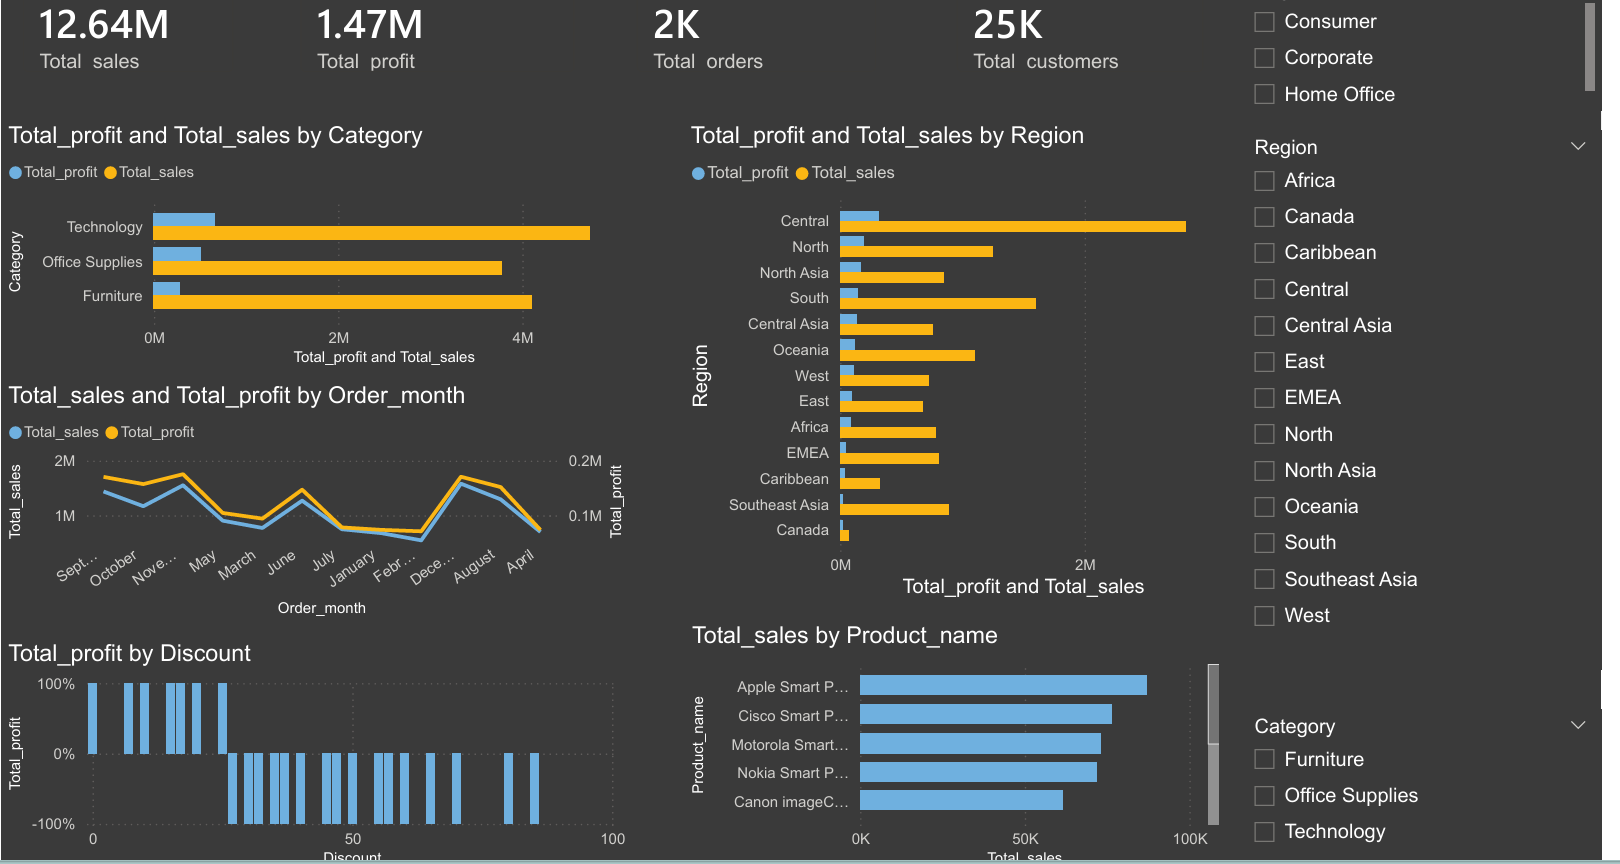

This screenshot's page, from the dashboard's own definition file:
{"tool":"powerbi","page":{"name":"Page 1","canvas":[1280,720],"ordinal":0},"visuals":[{"type":"cardVisual","fields":{"Data":["retail_analytics fact_sales.Total_sales"]},"box":[0,0,202,97],"z":0},{"type":"cardVisual","fields":{"Data":["retail_analytics fact_sales.Total_profit"]},"box":[222,0,253,97],"z":1000},{"type":"cardVisual","fields":{"Data":["retail_analytics fact_sales.Total_orders"]},"box":[491,0,225,97],"z":2000},{"type":"cardVisual","fields":{"Data":["retail_analytics fact_sales.Total_customers"]},"box":[747,0,231,97],"z":3000},{"type":"clusteredBarChart","fields":{"Y":["retail_analytics fact_sales.Total_profit","retail_analytics fact_sales.Total_sales"],"Category":["retail_analytics fact_sales.Category"]},"box":[0,120,504,199],"z":4000},{"type":"clusteredBarChart","fields":{"Category":["retail_analytics fact_sales.Region"],"Y":["retail_analytics fact_sales.Total_profit","retail_analytics fact_sales.Total_sales"]},"box":[546,120,432,385],"z":5000},{"type":"lineChart","fields":{"Category":["retail_analytics fact_sales.Order_month"],"Y":["retail_analytics fact_sales.Total_sales"],"Y2":["retail_analytics fact_sales.Total_profit"]},"box":[0,328,504,192],"z":6000},{"type":"hundredPercentStackedColumnChart","fields":{"Category":["retail_analytics fact_sales.Discount"],"Y":["retail_analytics fact_sales.Total_profit"]},"box":[0,534,504,186],"z":7000},{"type":"barChart","fields":{"Y":["retail_analytics fact_sales.Total_sales"],"Category":["retail_analytics fact_sales.Product_name"]},"box":[547,520,431,200],"z":8000},{"type":"slicer","fields":{"Values":["retail_analytics fact_sales.Segment"]},"box":[989,0,291,112],"z":9000},{"type":"slicer","fields":{"Values":["retail_analytics fact_sales.Category"]},"box":[989,590,291,130],"z":10000},{"type":"slicer","fields":{"Values":["retail_analytics fact_sales.Region"]},"box":[989,127,291,432],"z":11000}]}

Visuals, with their boxes on the page's 1280x720 design canvas (x1, y1, x2, y2). These are canvas units, not pixel positions in the 1620x864 screenshot, which may show the page scaled, cropped or inside an application window:
cardVisual - retail_analytics fact_sales.Total_sales: (x1=0, y1=0, x2=202, y2=97)
cardVisual - retail_analytics fact_sales.Total_profit: (x1=222, y1=0, x2=475, y2=97)
cardVisual - retail_analytics fact_sales.Total_orders: (x1=491, y1=0, x2=716, y2=97)
cardVisual - retail_analytics fact_sales.Total_customers: (x1=747, y1=0, x2=978, y2=97)
clusteredBarChart - retail_analytics fact_sales.Total_profit x retail_analytics fact_sales.Total_sales: (x1=0, y1=120, x2=504, y2=319)
clusteredBarChart - retail_analytics fact_sales.Region x retail_analytics fact_sales.Total_profit: (x1=546, y1=120, x2=978, y2=505)
lineChart - retail_analytics fact_sales.Order_month x retail_analytics fact_sales.Total_sales: (x1=0, y1=328, x2=504, y2=520)
hundredPercentStackedColumnChart - retail_analytics fact_sales.Discount x retail_analytics fact_sales.Total_profit: (x1=0, y1=534, x2=504, y2=720)
barChart - retail_analytics fact_sales.Total_sales x retail_analytics fact_sales.Product_name: (x1=547, y1=520, x2=978, y2=720)
slicer - retail_analytics fact_sales.Segment: (x1=989, y1=0, x2=1280, y2=112)
slicer - retail_analytics fact_sales.Category: (x1=989, y1=590, x2=1280, y2=720)
slicer - retail_analytics fact_sales.Region: (x1=989, y1=127, x2=1280, y2=559)
